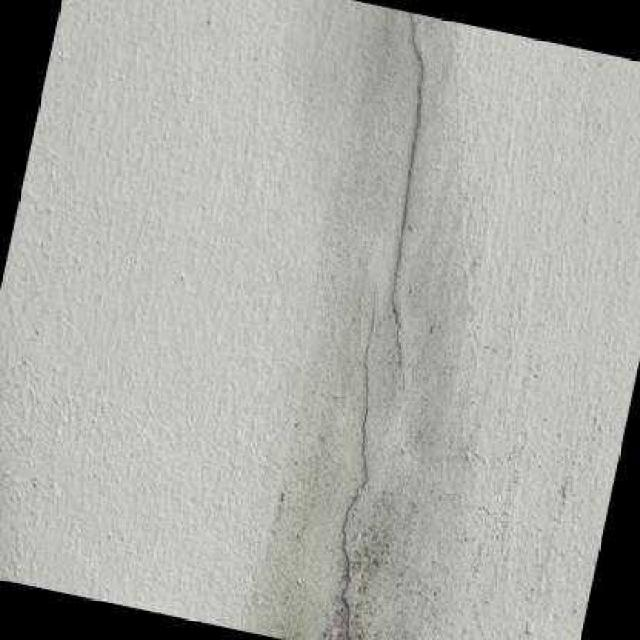D00: (338, 286, 379, 640), (388, 14, 425, 393)
